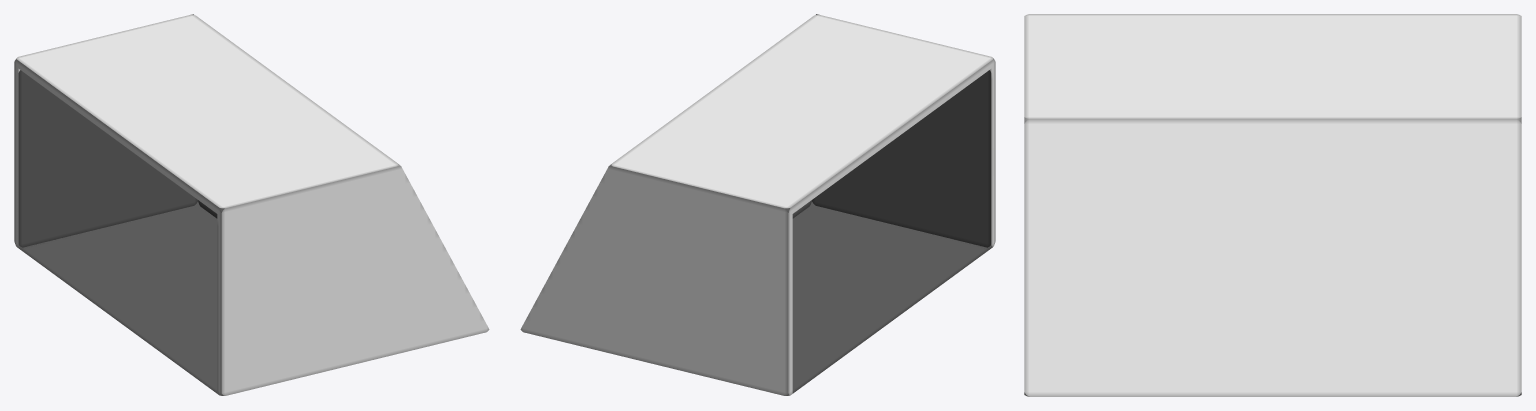
File: Goal.fbx
3 renders of one model, left to right at view 1: azimuth 30°, elevation 25°; view 2: azimuth 150°, elevation 25°; view 3: azimuth 270°, elevation 25°, orthographic. The views are drawn at different scales.
Parts seen in each view (by area): view 1: cube; view 2: cube; view 3: cube.
Part boxes in pixels (<box>): cube: <box>14,14,489,395</box>; cube: <box>520,14,995,395</box>; cube: <box>1024,14,1521,396</box>.
Bounding box in the file's own units: 225 × 150 × 300.
Materials: 1 (1 with a texture image).
